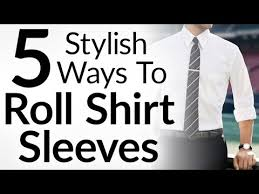F_belt: (157, 121, 227, 144)
F_shirt: (152, 28, 259, 129)
F_tie: (184, 33, 200, 137)
